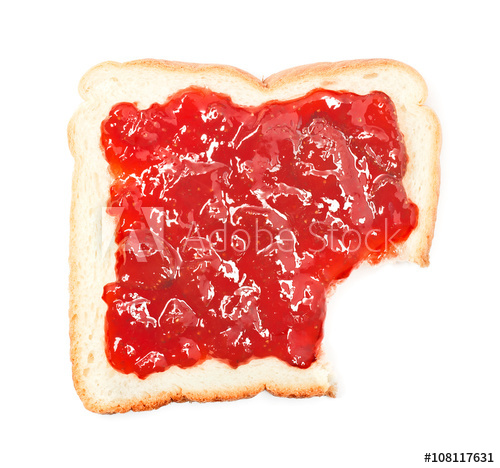slice of bread: (60, 43, 446, 421)
